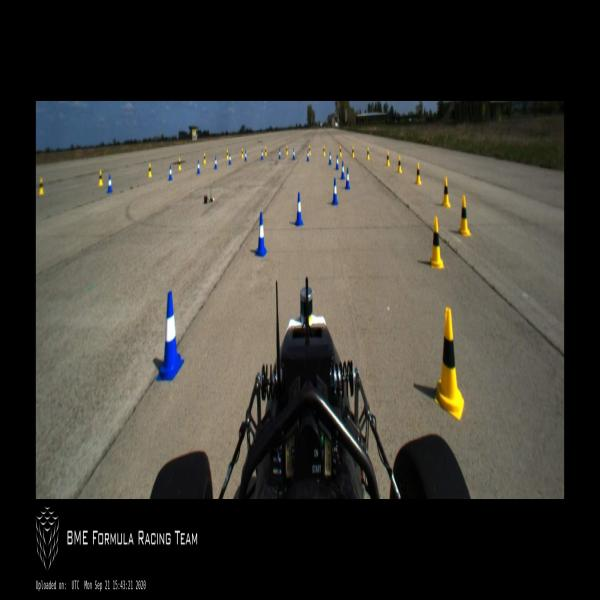blue_cone: (157, 294, 183, 382), (255, 212, 267, 258), (295, 192, 303, 226), (332, 178, 338, 206), (345, 167, 350, 189), (107, 174, 112, 192), (340, 160, 344, 179), (335, 154, 339, 170), (329, 150, 332, 164), (169, 166, 172, 180), (197, 160, 200, 173), (214, 157, 217, 169), (307, 149, 309, 161), (229, 153, 231, 164), (278, 149, 280, 160), (293, 149, 295, 160), (261, 150, 263, 160), (245, 151, 246, 161)
yellow_cone: (436, 307, 464, 420), (428, 216, 444, 268), (458, 195, 471, 236), (442, 177, 450, 208), (416, 162, 422, 184), (39, 177, 44, 195), (398, 156, 402, 173), (386, 150, 390, 167), (148, 163, 152, 177), (99, 170, 102, 185), (366, 147, 369, 160), (339, 146, 342, 157), (178, 159, 181, 170), (203, 153, 206, 164), (352, 147, 354, 159), (308, 146, 311, 154), (323, 146, 325, 156), (241, 148, 243, 158), (226, 150, 228, 159), (264, 147, 266, 156), (286, 146, 288, 155)
